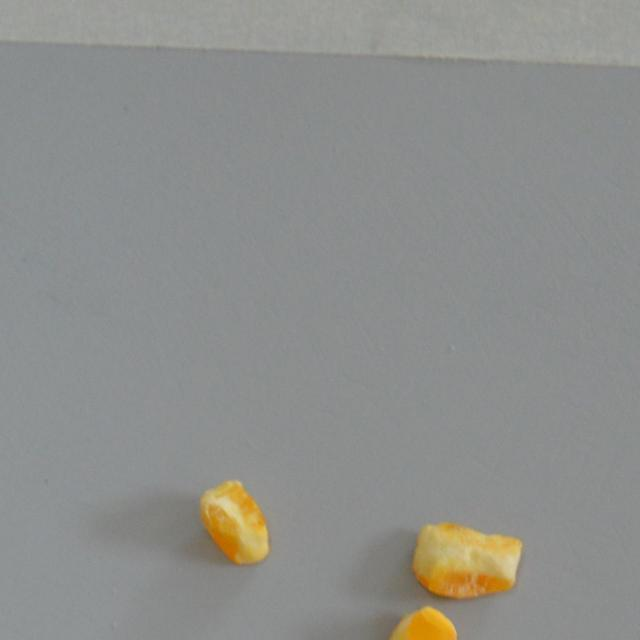dañado: (406, 516, 526, 601), (196, 474, 275, 568), (365, 598, 461, 640)
